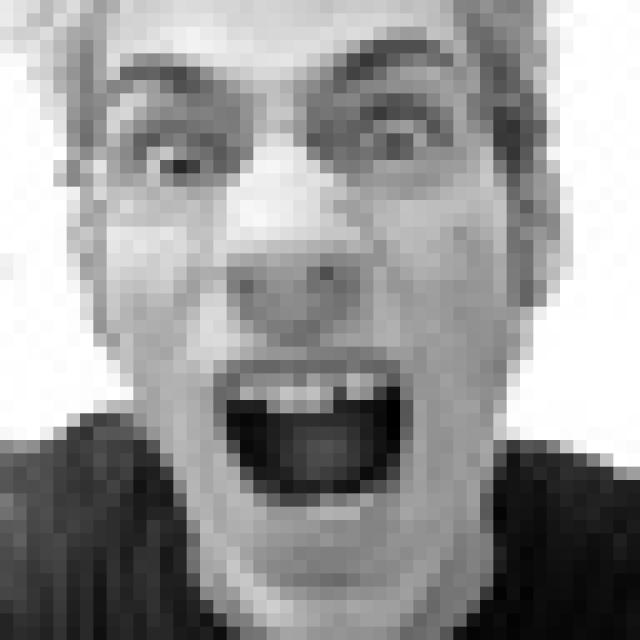angry: (98, 32, 467, 539)
